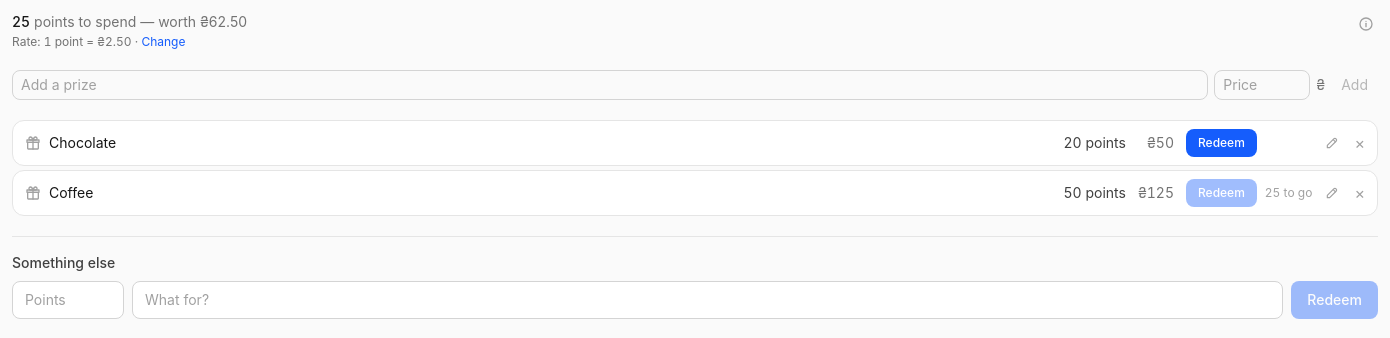
Test case: keeping a list (RWD-33, RWD-34) › leaves one as it was when the change is given up on with Escape
Click the button named "Change the prize \"Chocolate\"". click: (1332, 143)
box: [1320,131,1344,155]
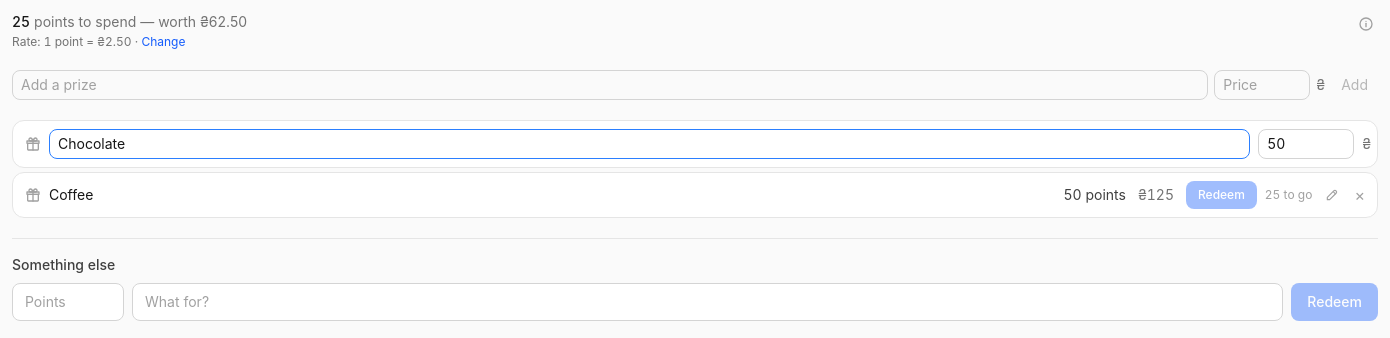
Type " bar" into the field named "Name of the prize \"Chocolate\"". click: (650, 144)
box: [49,129,1250,159]
Then press Escape
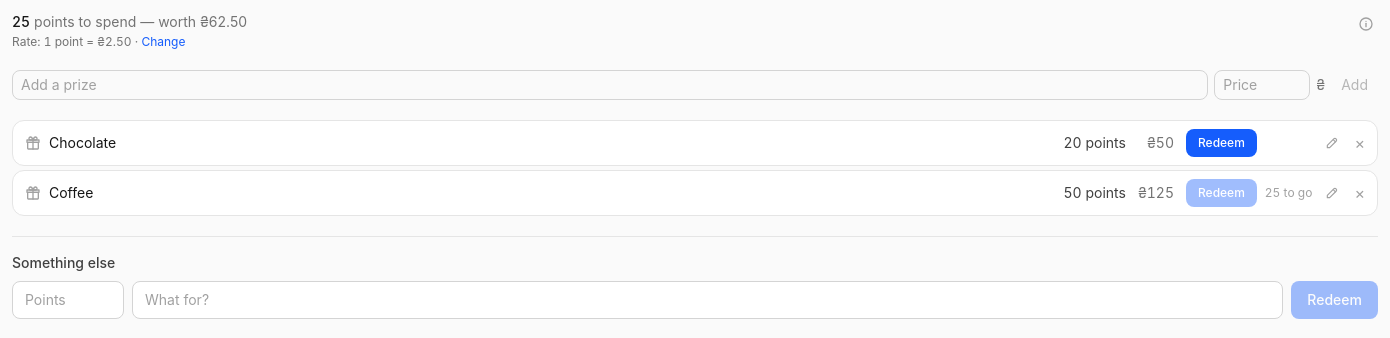
Result: the button named "Change the prize \"Chocolate\"" is shown at [1320,131,1344,155]
